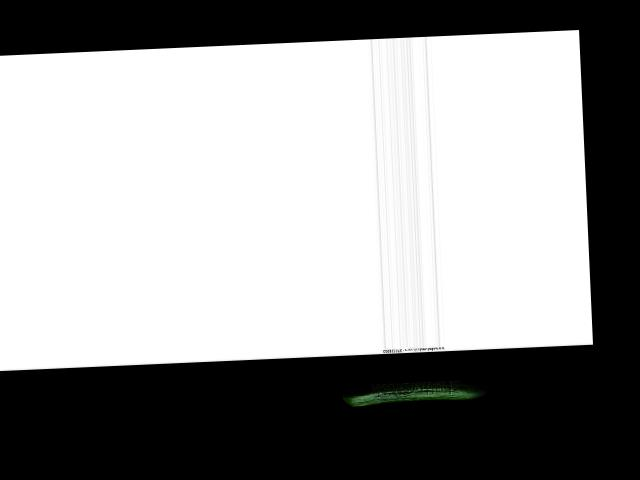cucumber: (340, 377, 488, 406)
